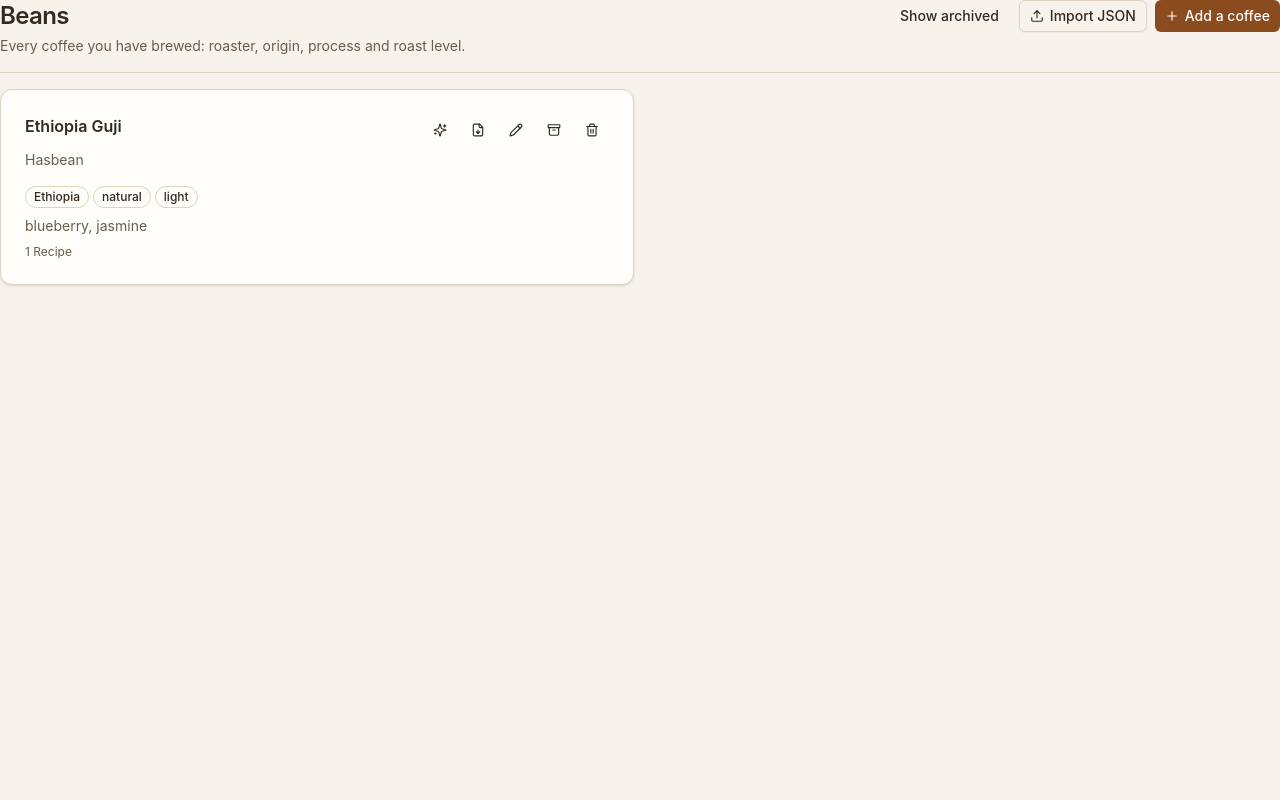
Test: BeansPage › has no roast date on the form
Click the button "Add a coffee".
click(1217, 16)  # box [1155,0,1279,32]
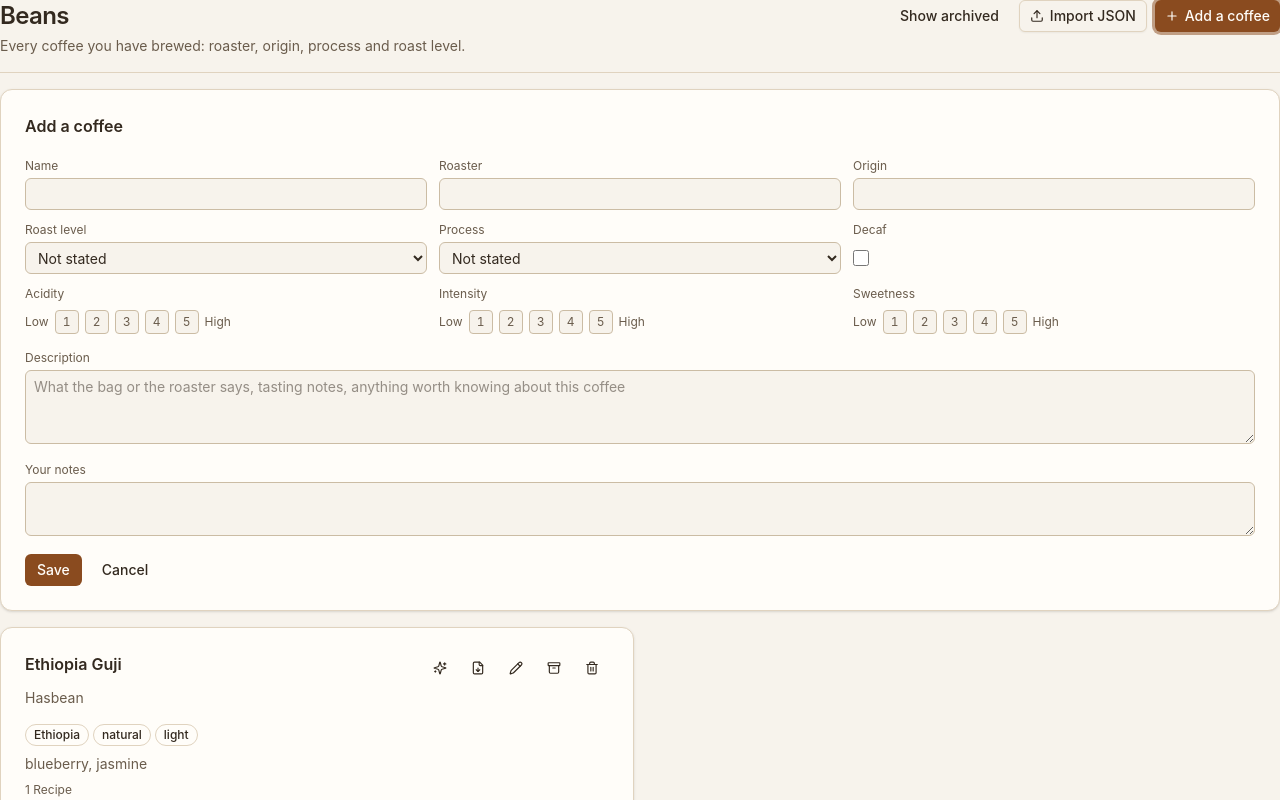
Now the form with test id "bean-form" is shown, box [25,158,1255,586]
Now the dropdown labelled "Roast level" is shown, box [25,242,427,274]
